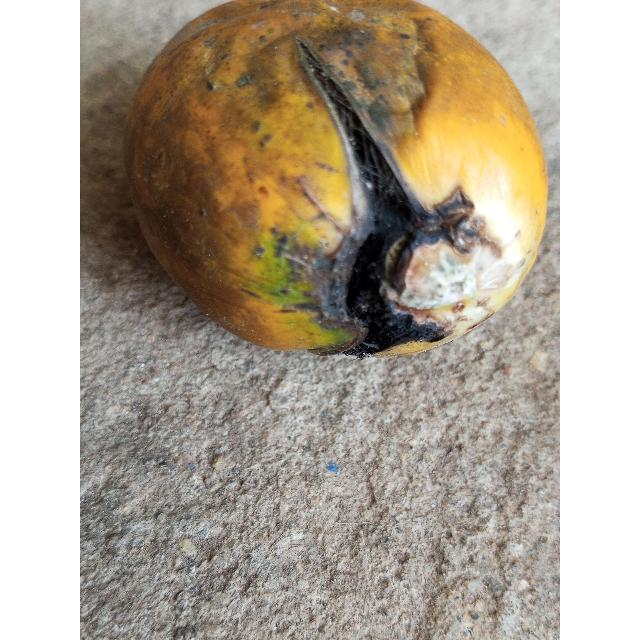damaged: (124, 0, 548, 359)
